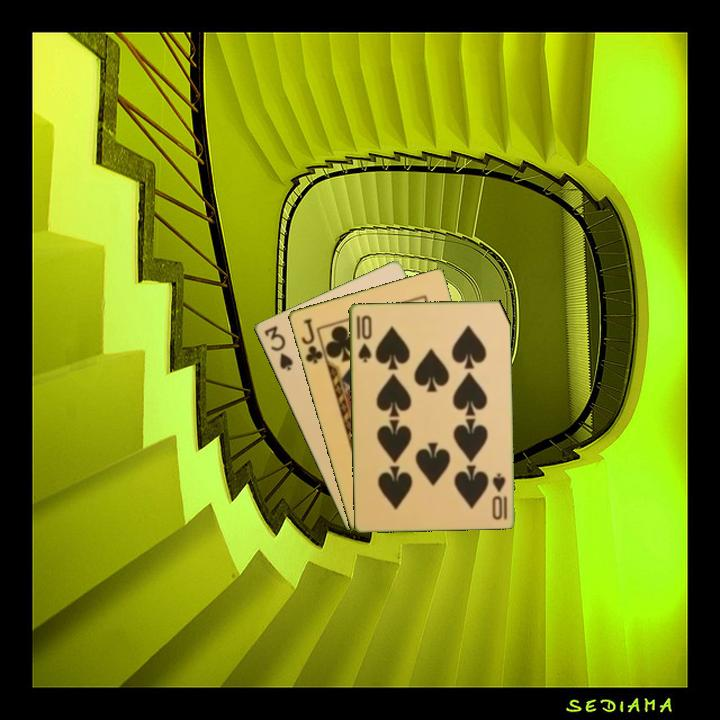10s: (488, 469, 510, 522), (353, 311, 374, 365)
3s: (260, 322, 296, 373)
Jc: (297, 314, 325, 366)
